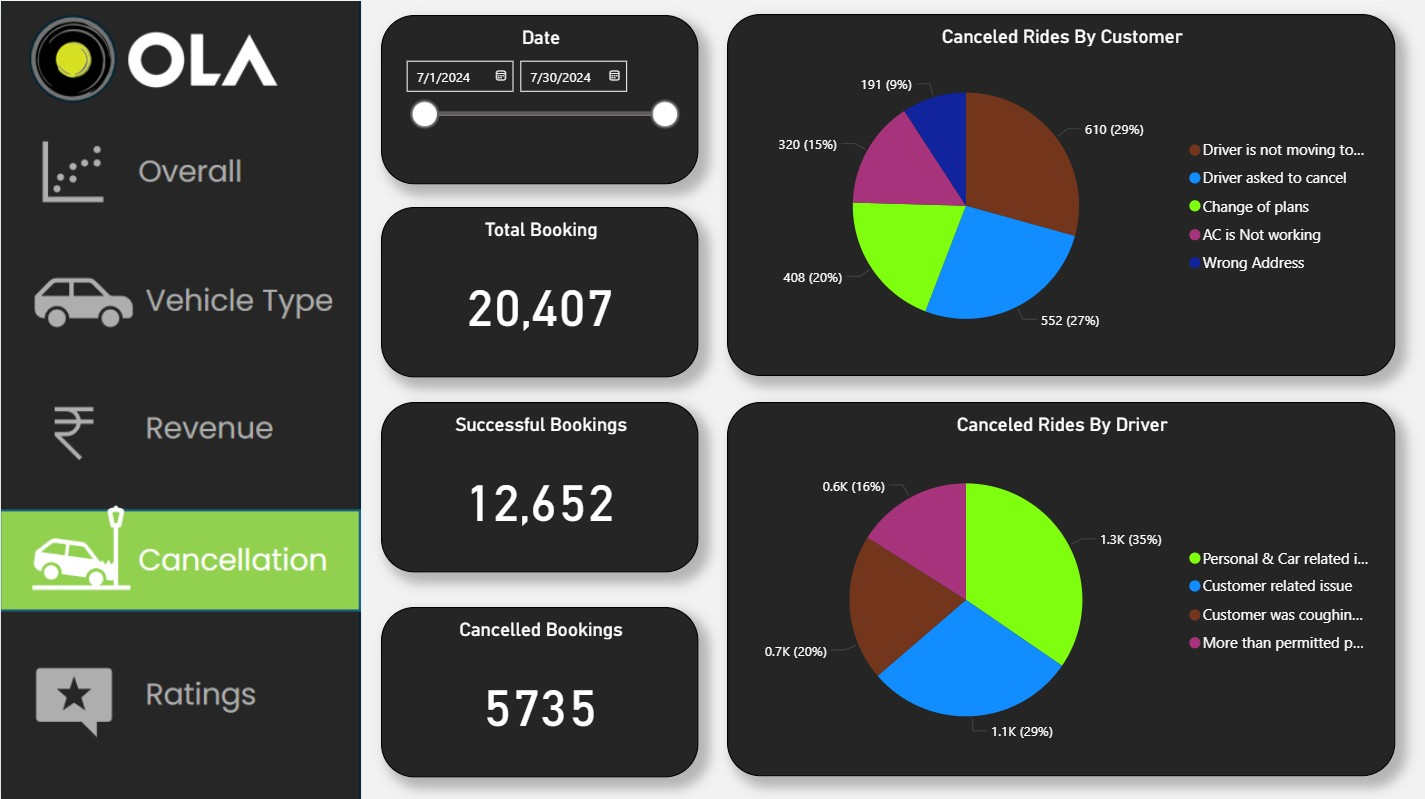

The dashboard page shown, as its layout file describes it:
{"tool":"powerbi","page":{"name":"Cancellation","canvas":[1280,720],"ordinal":3},"visuals":[{"type":"actionButton","box":[0,224.3,325.4,91.3],"z":0},{"type":"actionButton","box":[0,337.8,325.4,91.3],"z":1000},{"type":"actionButton","box":[0,577.2,325.4,91.3],"z":2000},{"type":"actionButton","box":[0,114.4,325.4,91.3],"z":3000},{"type":"pieChart","title":"Canceled Rides By Customer","fields":{"Category":["Bookings-20000-Rows.Canceled_Rides_by_Customer"],"Y":["CountNonNull(Bookings-20000-Rows.Canceled_Rides_by_Customer)"]},"box":[651.6,12.1,600,325.3],"z":4000},{"type":"pieChart","title":"Canceled Rides By Driver","fields":{"Category":["Bookings-20000-Rows.Canceled_Rides_by_Driver"],"Y":["CountNonNull(Bookings-20000-Rows.Canceled_Rides_by_Driver)"]},"box":[651.6,360.4,600,336.3],"z":5000},{"type":"card","title":"Total Booking","fields":{"Values":["CountNonNull(Bookings-20000-Rows.Booking_ID)"]},"box":[341.2,185.1,285.4,152.8],"z":6000},{"type":"card","title":"Successful Bookings","fields":{"Values":["CountNonNull(Bookings-20000-Rows.Booking_ID)"]},"box":[341.2,360.1,285.4,152.8],"z":7000},{"type":"card","title":"Cancelled Bookings","fields":{"Values":["CountNonNull(Bookings-20000-Rows.Booking_ID)"]},"box":[341.2,544.1,285.4,152.8],"z":8000},{"type":"slicer","title":"Date","fields":{"Values":["Bookings-20000-Rows.Date"]},"box":[341.2,12.3,285.4,151.6],"z":9000}]}

Visuals, with their boxes in screenshot pixels (x1, y1, x2, y2), scaled from the page's 1280x720 canvas onto the 1425x799 screenshot:
actionButton: (0,249,362,350)
actionButton: (0,375,362,476)
actionButton: (0,641,362,742)
actionButton: (0,127,362,228)
"Canceled Rides By Customer" pieChart: (725,13,1393,374)
"Canceled Rides By Driver" pieChart: (725,400,1393,773)
"Total Booking" card: (380,205,698,375)
"Successful Bookings" card: (380,400,698,569)
"Cancelled Bookings" card: (380,604,698,773)
"Date" slicer: (380,14,698,182)
